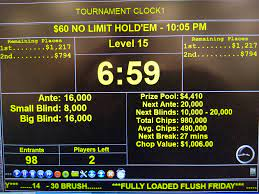PlayersLeft: (59, 144, 129, 166)
Remaining: (181, 35, 259, 92), (1, 37, 76, 94)
TournamentClock: (1, 22, 259, 166)
